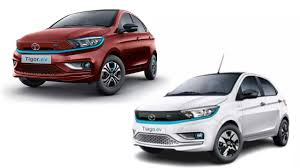Tiago: (129, 70, 290, 168), (8, 9, 157, 94)
